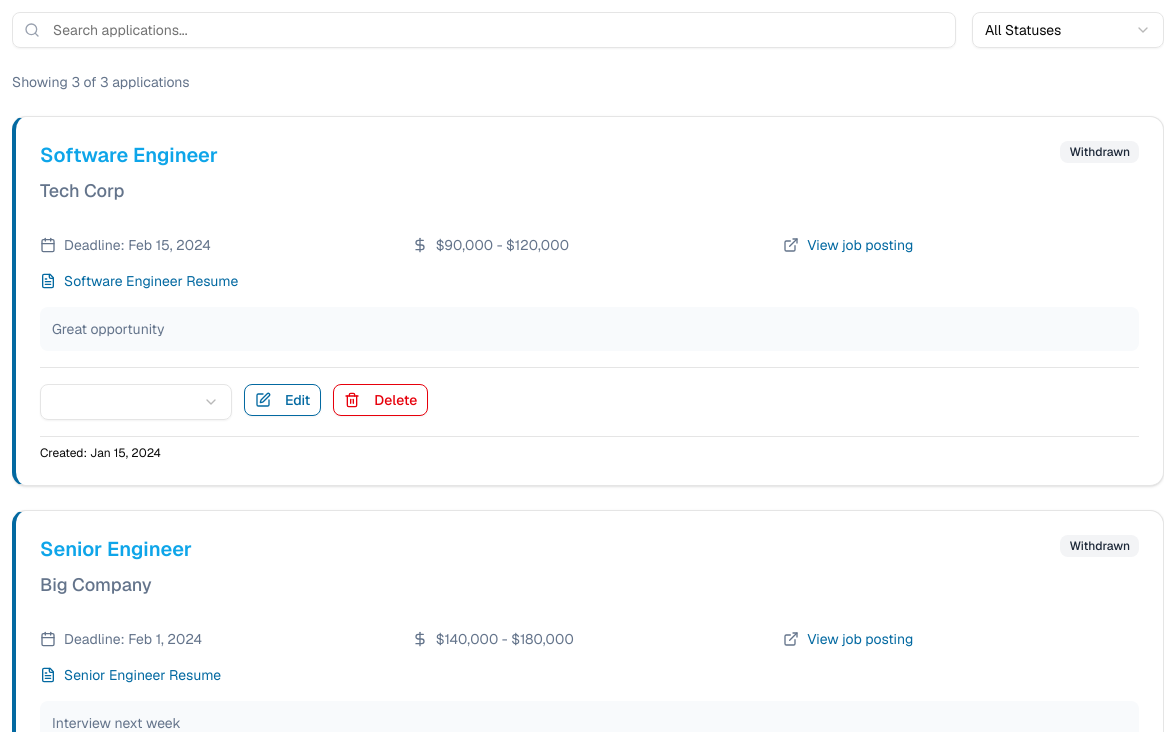
Test: ApplicationsList › should display empty state when no applications match filter
Type "Nonexistent Company" into the field with placeholder "Search applications...".
click(484, 30); type("Nonexistent Company")  # box [12,12,956,48]
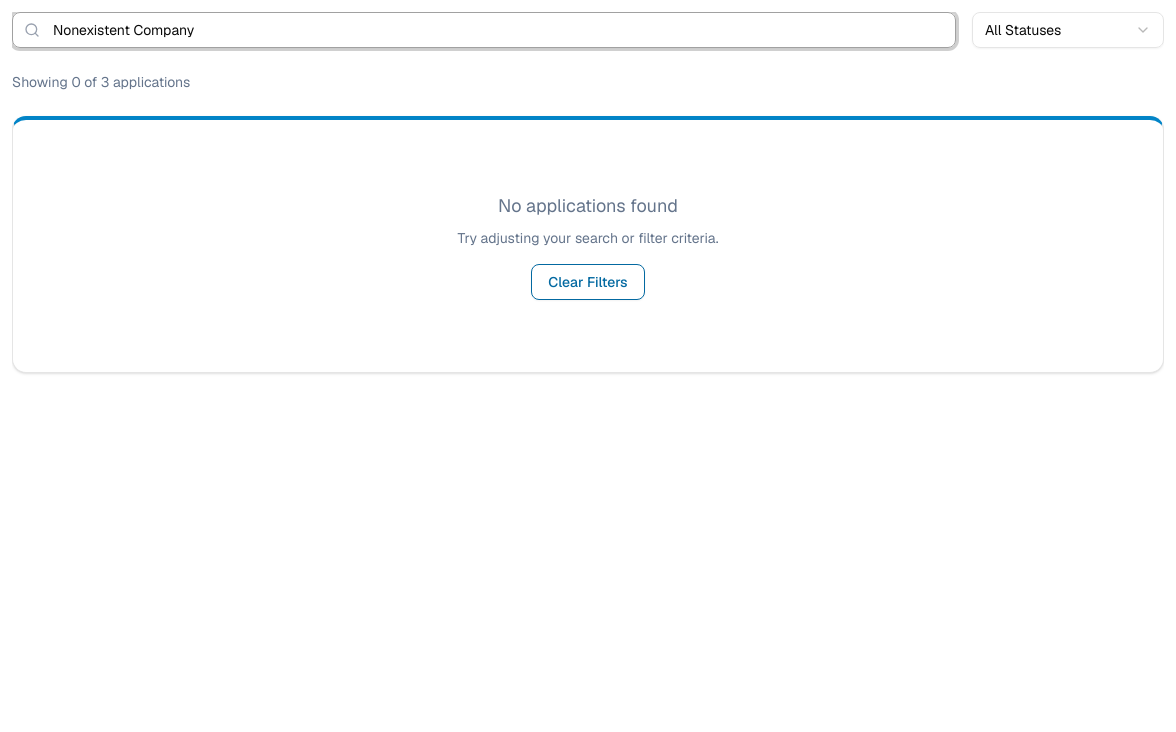
expect the text "No applications found" is shown: met, box [498,194,678,217]
expect the text "Try adjusting your search or filter criteria." is shown: met, box [458,229,718,247]
